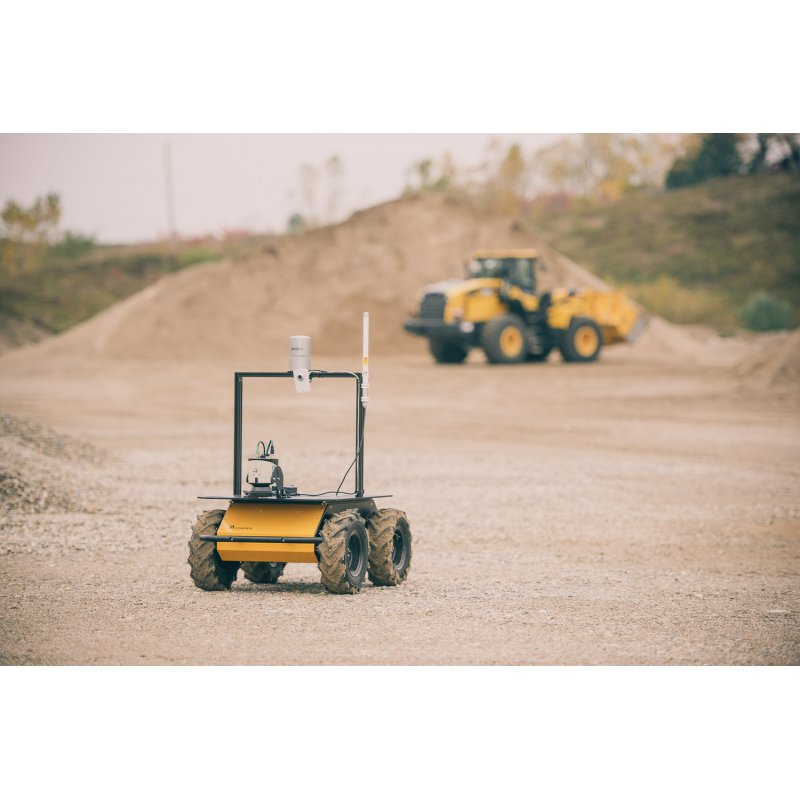husky: (185, 310, 414, 595)
